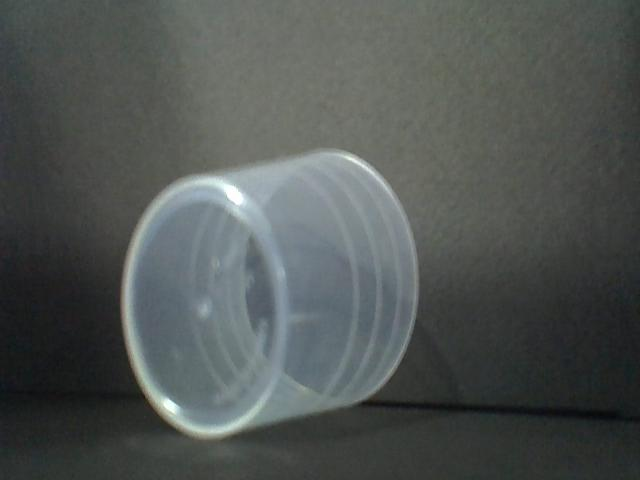cup: (119, 147, 422, 447)
